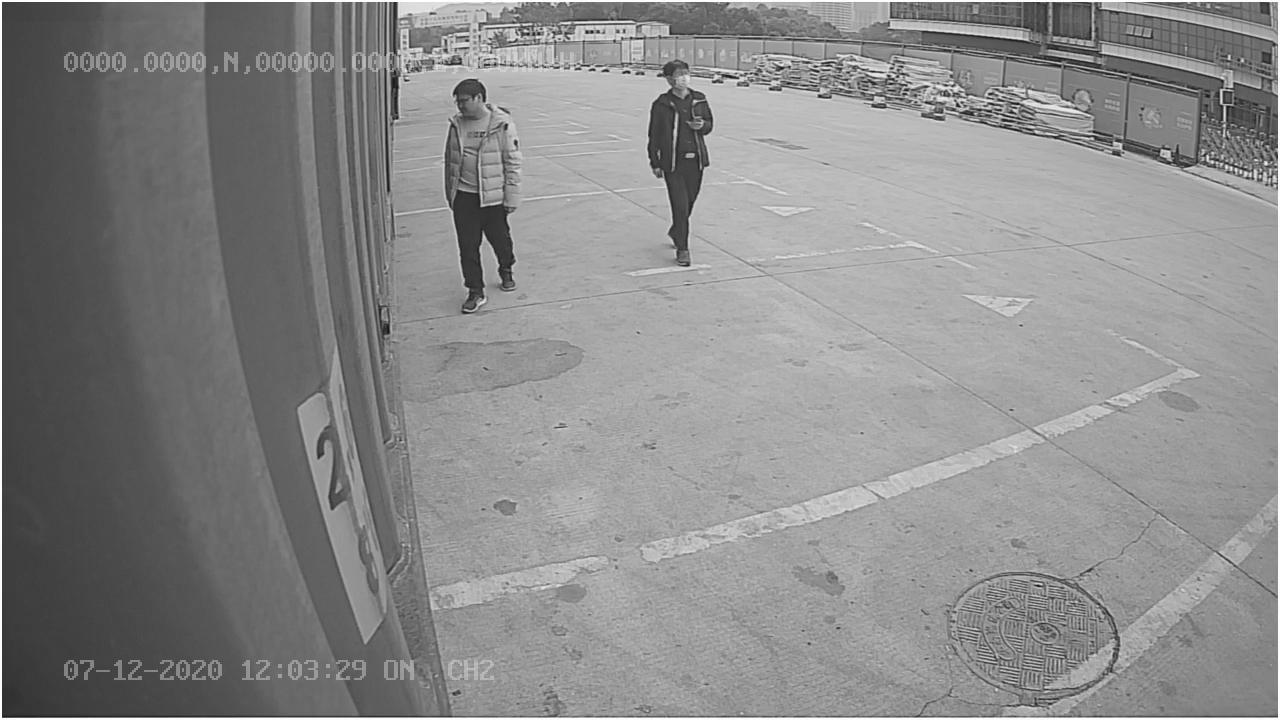person: (434, 78, 525, 313)
